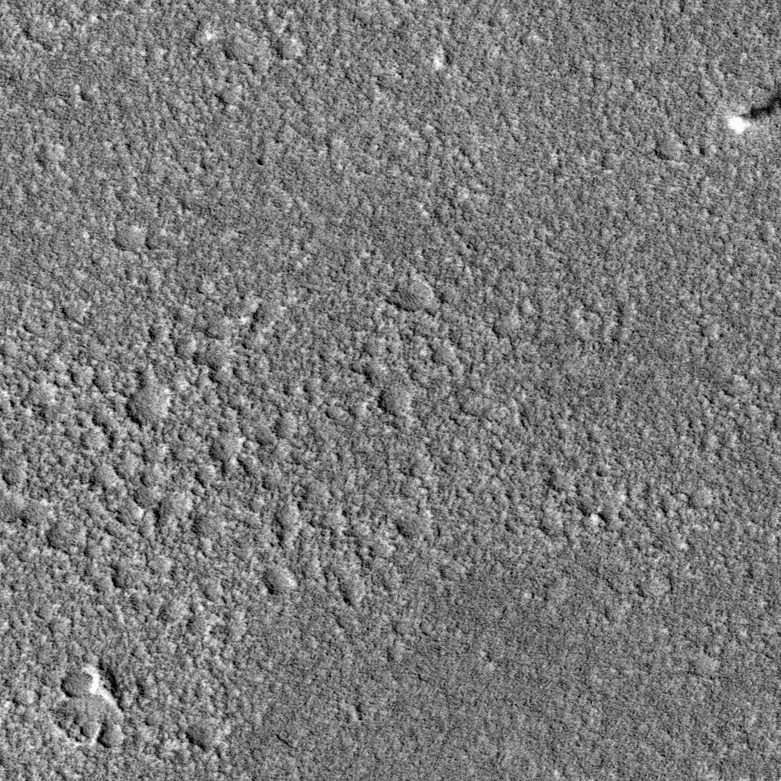dust_devil: (725, 82, 781, 138)
